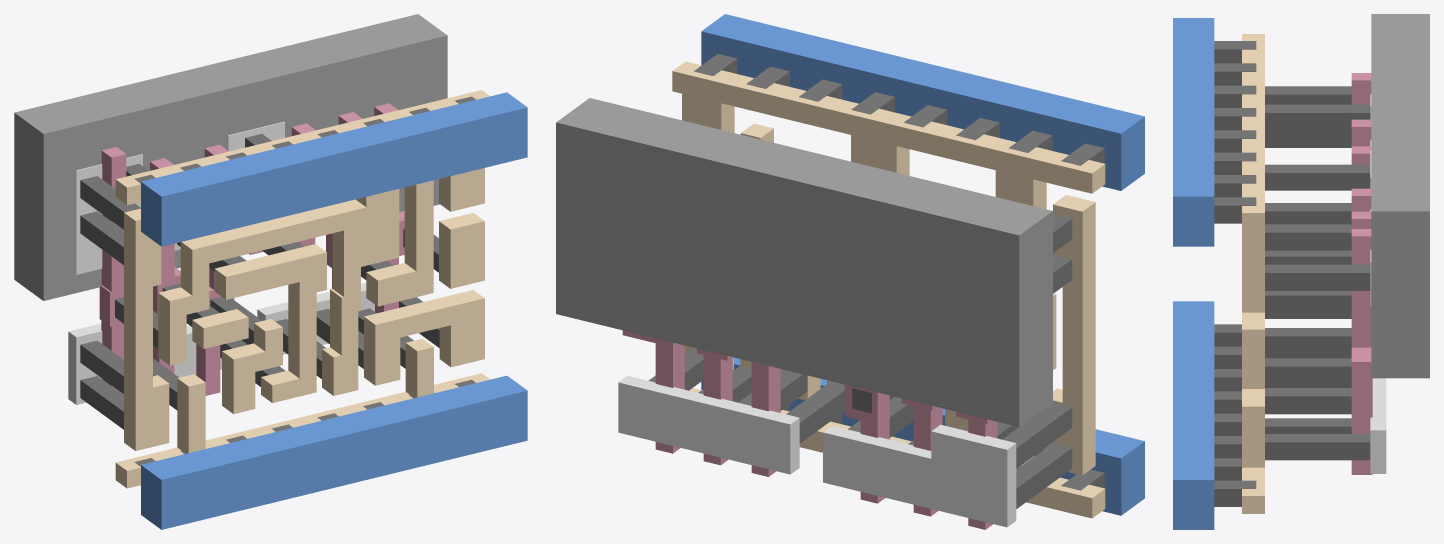
The model's file is sky130_fd_sc_hd__o2bb2a_1.gds.gltf.
3 renders of one model, left to right at view 1: azimuth 30°, elevation 25°; view 2: azimuth 150°, elevation 25°; view 3: azimuth 270°, elevation 25°, orthographic. The views are drawn at different scales.
Parts seen in each view (by area): view 1: sky130_fd_sc_hd__o2bb2a_1_li1, sky130_fd_sc_hd__o2bb2a_1_met1, sky130_fd_sc_hd__o2bb2a_1_nwell, sky130_fd_sc_hd__o2bb2a_1_licon, sky130_fd_sc_hd__o2bb2a_1_poly, sky130_fd_sc_hd__o2bb2a_1_diff, sky130_fd_sc_hd__o2bb2a_1_mcon; view 2: sky130_fd_sc_hd__o2bb2a_1_nwell, sky130_fd_sc_hd__o2bb2a_1_li1, sky130_fd_sc_hd__o2bb2a_1_met1, sky130_fd_sc_hd__o2bb2a_1_diff, sky130_fd_sc_hd__o2bb2a_1_licon, sky130_fd_sc_hd__o2bb2a_1_poly, sky130_fd_sc_hd__o2bb2a_1_mcon; view 3: sky130_fd_sc_hd__o2bb2a_1_licon, sky130_fd_sc_hd__o2bb2a_1_nwell, sky130_fd_sc_hd__o2bb2a_1_met1, sky130_fd_sc_hd__o2bb2a_1_mcon, sky130_fd_sc_hd__o2bb2a_1_li1, sky130_fd_sc_hd__o2bb2a_1_poly, sky130_fd_sc_hd__o2bb2a_1_diff.
Part boxes in pixels (<box>): sky130_fd_sc_hd__o2bb2a_1_li1: <box>115,90,489,488</box>; sky130_fd_sc_hd__o2bb2a_1_met1: <box>141,92,527,529</box>; sky130_fd_sc_hd__o2bb2a_1_nwell: <box>14,14,447,300</box>; sky130_fd_sc_hd__o2bb2a_1_licon: <box>80,134,439,429</box>; sky130_fd_sc_hd__o2bb2a_1_poly: <box>99,103,404,395</box>; sky130_fd_sc_hd__o2bb2a_1_diff: <box>68,121,374,404</box>; sky130_fd_sc_hd__o2bb2a_1_mcon: <box>134,96,475,466</box>; sky130_fd_sc_hd__o2bb2a_1_nwell: <box>556,98,1052,426</box>; sky130_fd_sc_hd__o2bb2a_1_li1: <box>672,61,1105,518</box>; sky130_fd_sc_hd__o2bb2a_1_met1: <box>701,14,1144,515</box>; sky130_fd_sc_hd__o2bb2a_1_diff: <box>618,375,1016,527</box>; sky130_fd_sc_hd__o2bb2a_1_licon: <box>648,214,1072,508</box>; sky130_fd_sc_hd__o2bb2a_1_poly: <box>622,330,997,529</box>; sky130_fd_sc_hd__o2bb2a_1_mcon: <box>694,54,1104,490</box>; sky130_fd_sc_hd__o2bb2a_1_licon: <box>1265,86,1370,460</box>; sky130_fd_sc_hd__o2bb2a_1_nwell: <box>1371,14,1429,378</box>; sky130_fd_sc_hd__o2bb2a_1_met1: <box>1173,18,1214,529</box>; sky130_fd_sc_hd__o2bb2a_1_mcon: <box>1214,41,1256,506</box>; sky130_fd_sc_hd__o2bb2a_1_li1: <box>1242,34,1264,513</box>; sky130_fd_sc_hd__o2bb2a_1_poly: <box>1351,73,1372,474</box>; sky130_fd_sc_hd__o2bb2a_1_diff: <box>1370,94,1386,473</box>.
Size of the model in its own units: 4.06 by 3.2 by 2.24.
